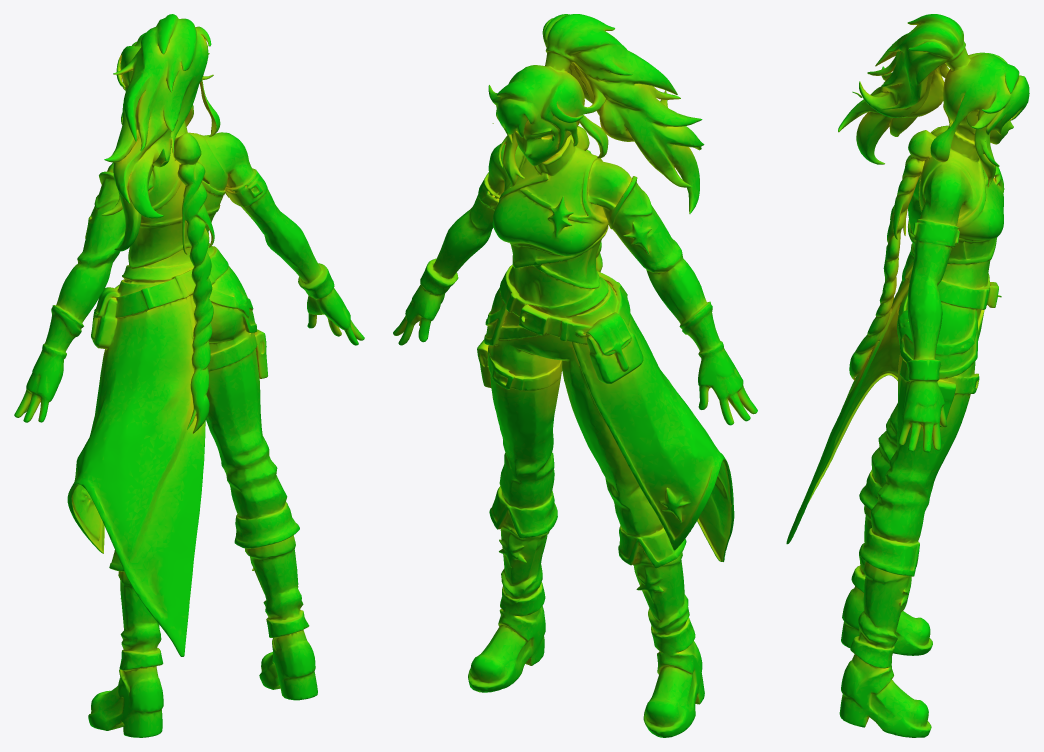
File: aria_outline.fbx
3 renders of one model, left to right at view 1: azimuth 30°, elevation 25°; view 2: azimuth 150°, elevation 25°; view 3: azimuth 270°, elevation 25°, orthographic. The views are drawn at different scales.
Parts seen in each view (by area): view 1: aria_outline; view 2: aria_outline; view 3: aria_outline.
Boxes of the visible parts, x1,y1,x2,y2 form: aria_outline: [14, 14, 364, 737]; aria_outline: [393, 14, 757, 737]; aria_outline: [786, 14, 1029, 737].
Size of the model in its own units: 94.93 by 180 by 59.04.
